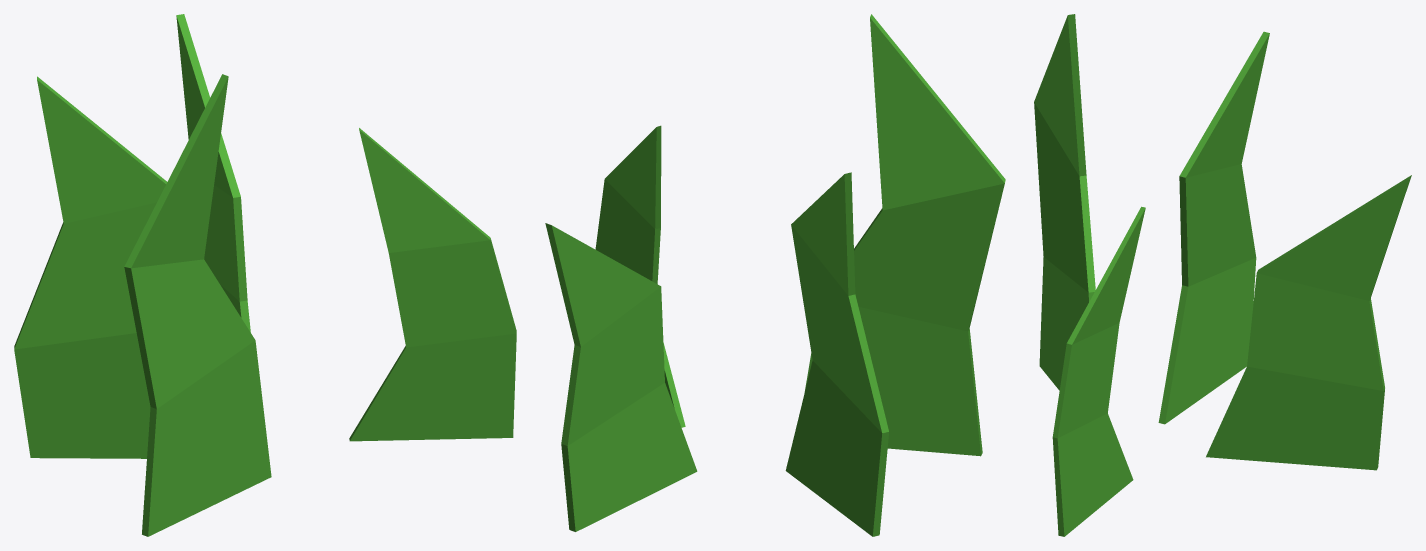
The model's file is Grass_03.fbx.
3 views of the same model, side by side, from view 1: azimuth 30°, elevation 25°; view 2: azimuth 150°, elevation 25°; view 3: azimuth 270°, elevation 25° (orthographic). The views are drawn at different scales.
Parts seen in each view (by area): view 1: Grass_03; view 2: Grass_03; view 3: Grass_03.
Part boxes in pixels (box(x1,y1,x2,y2)): Grass_03: box(14, 14, 516, 536); Grass_03: box(545, 14, 1005, 536); Grass_03: box(1034, 14, 1411, 536).
Bounding box in the file's own units: 39.99 × 40.56 × 35.22.
